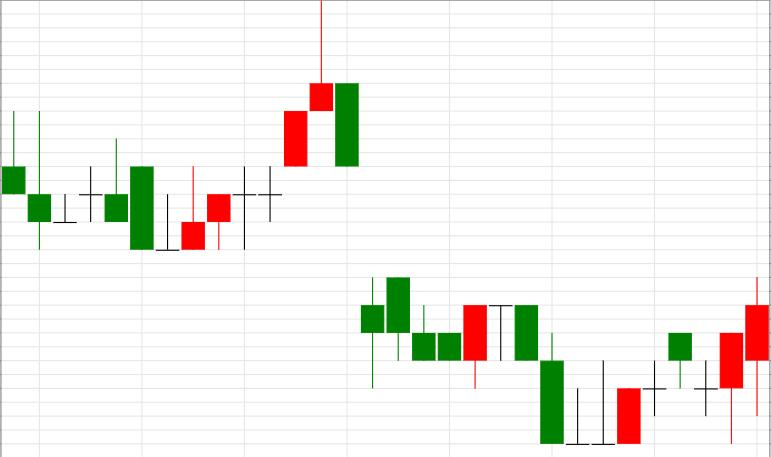shooting_star_fall: (181, 0, 333, 251)
